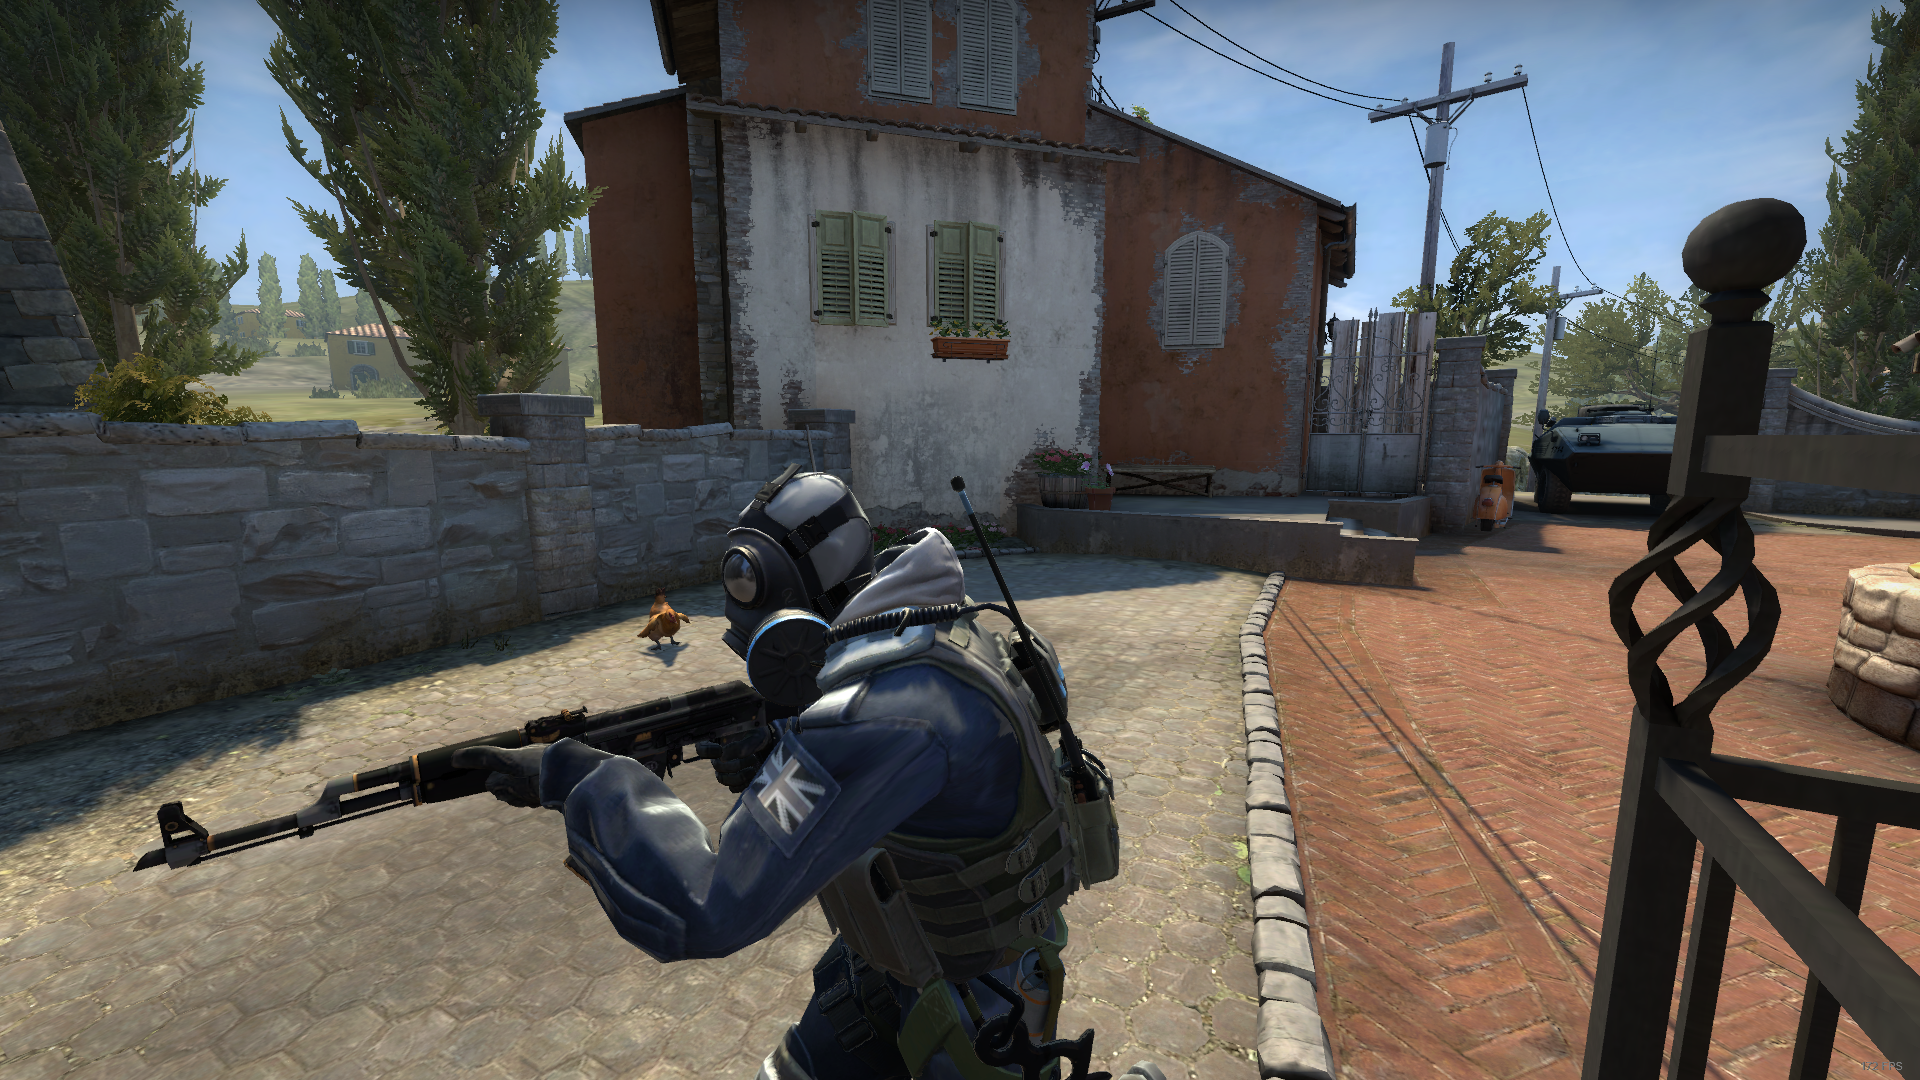ct: (465, 444, 1159, 1080)
